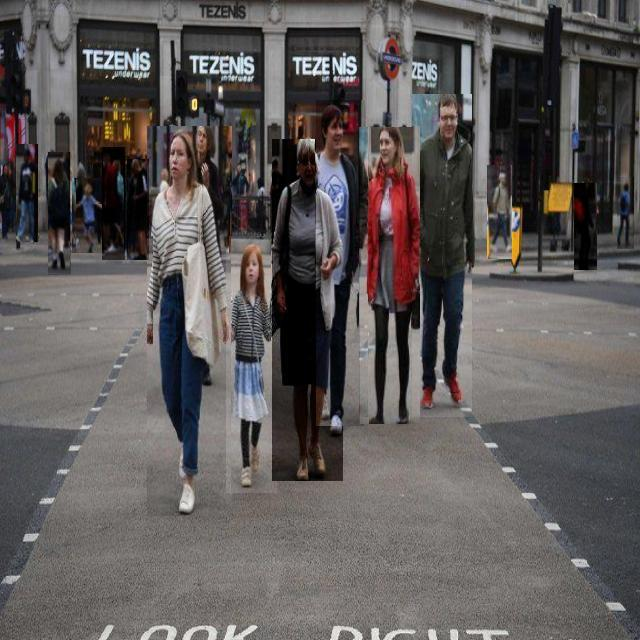without scooter: (148, 126, 232, 516), (273, 139, 344, 481), (412, 95, 472, 418), (360, 128, 420, 424), (317, 100, 366, 427), (227, 236, 278, 493), (49, 153, 72, 276), (103, 147, 126, 260), (72, 178, 106, 253), (488, 165, 514, 259), (127, 160, 149, 260), (16, 144, 38, 242), (574, 184, 597, 270), (617, 177, 634, 249)
